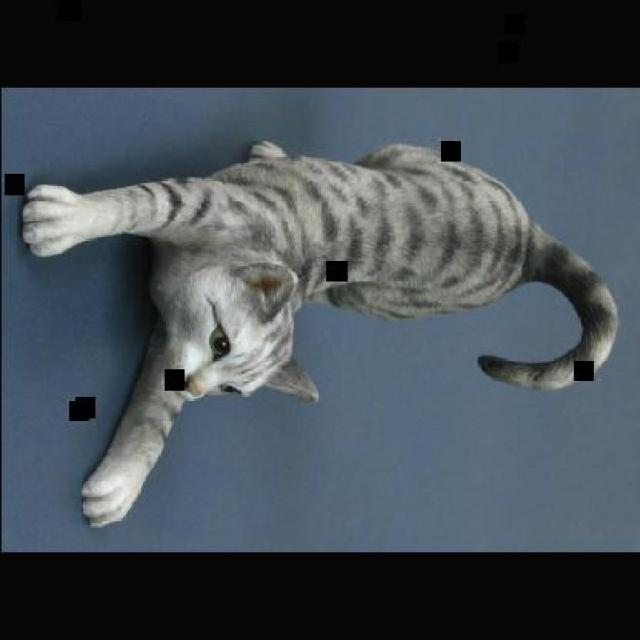unauthorized: (18, 137, 620, 528)
